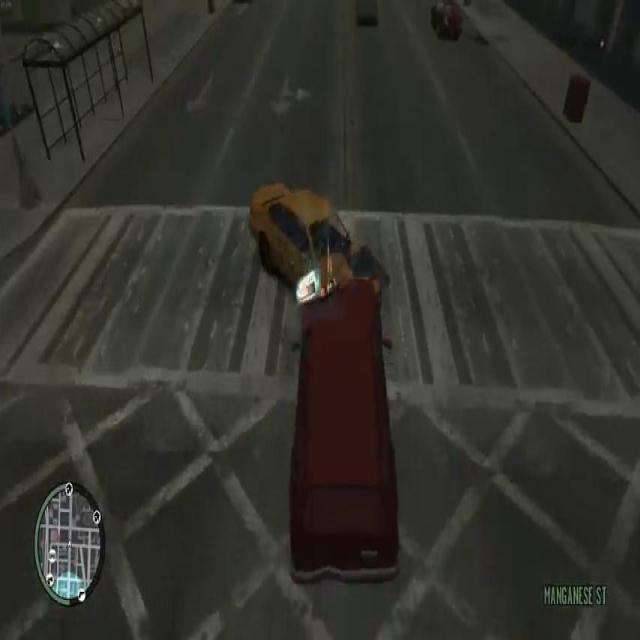moderate: (245, 167, 406, 590)
